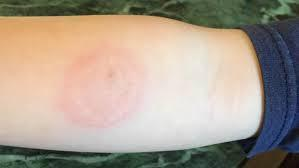Tick: (74, 50, 137, 122)
